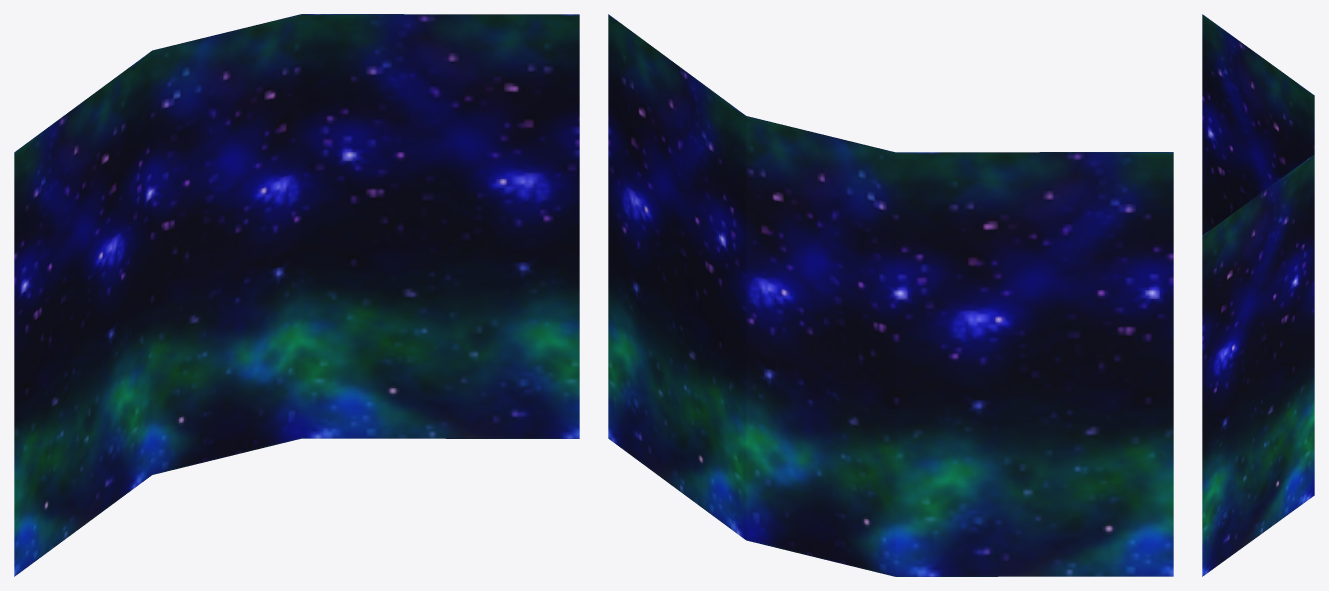
File: space,thefinalfront.glb
The picture shows the model from 3 angles, left to right: view 1: azimuth 30°, elevation 25°; view 2: azimuth 150°, elevation 25°; view 3: azimuth 270°, elevation 25°; orthographic projection. The views are drawn at different scales.
Visible parts, largest first — view 1: space,thefinalfront; view 2: space,thefinalfront; view 3: space,thefinalfront.
Part boxes in pixels (<box>): space,thefinalfront: <box>14,14,579,576</box>; space,thefinalfront: <box>608,14,1173,576</box>; space,thefinalfront: <box>1202,14,1314,576</box>.
Bounding box in the file's own units: 5593 × 4014 × 1198.
1 material, 1 textured.
